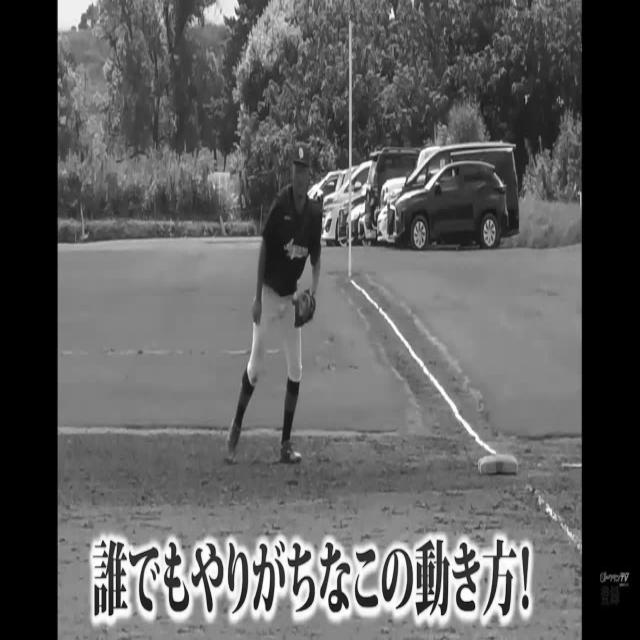base: (476, 446, 519, 481)
baseball_glove: (292, 287, 315, 329)
shoe: (220, 418, 244, 462), (278, 438, 303, 468)
